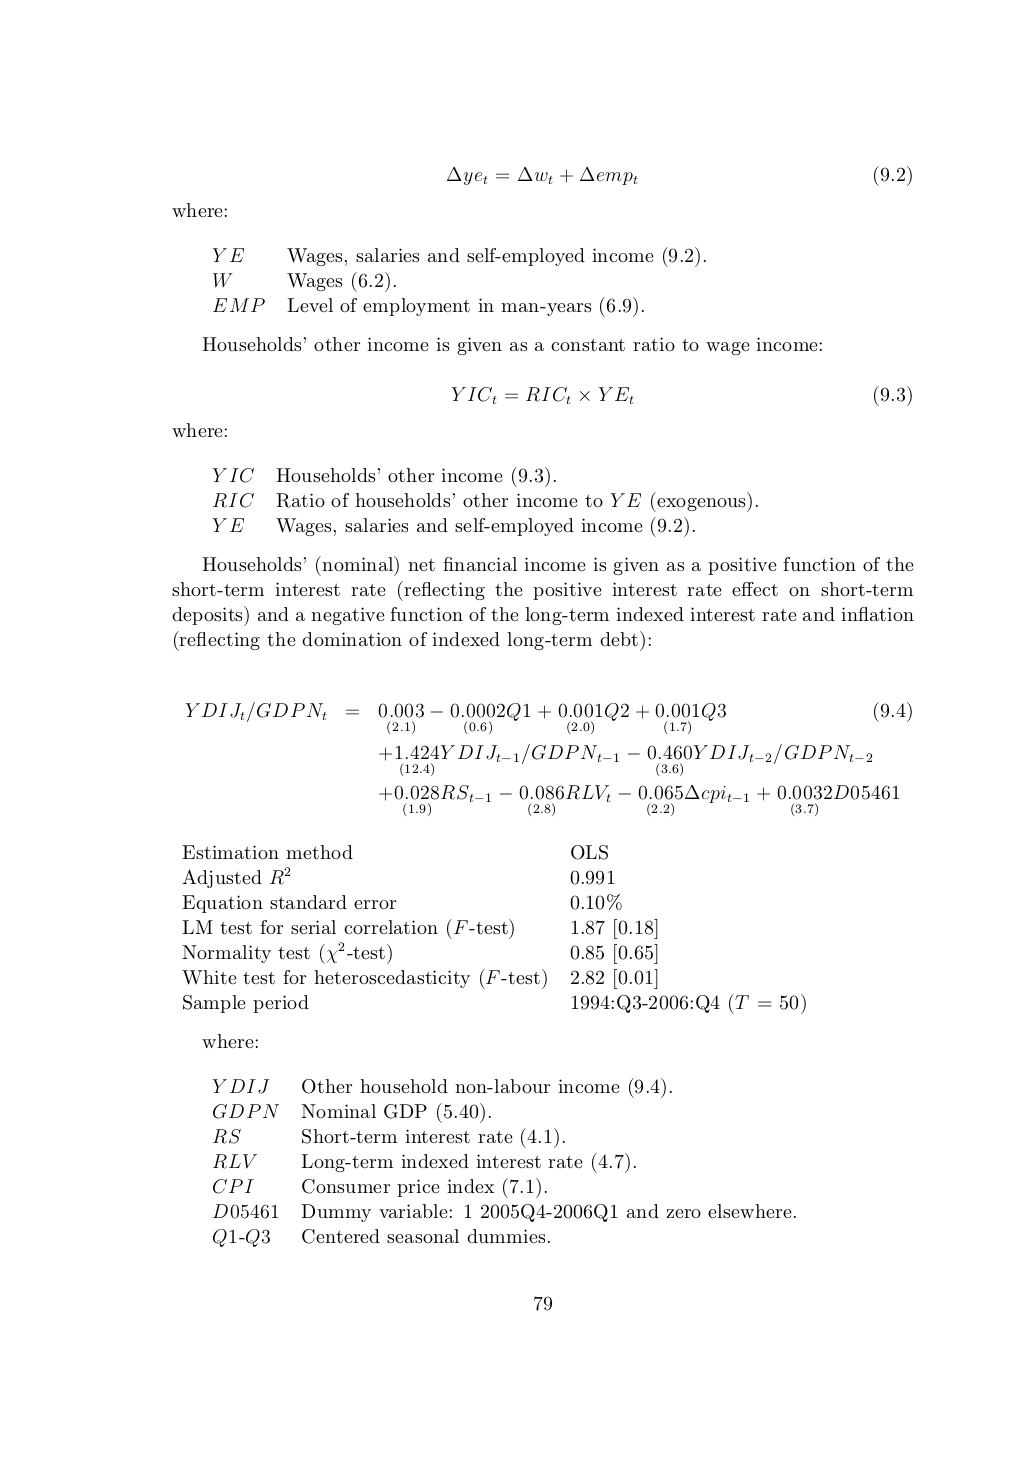Table: (182, 845, 805, 1012)
formula: (185, 701, 911, 735), (379, 783, 899, 817), (379, 743, 872, 777), (447, 165, 911, 186), (451, 385, 911, 406)
